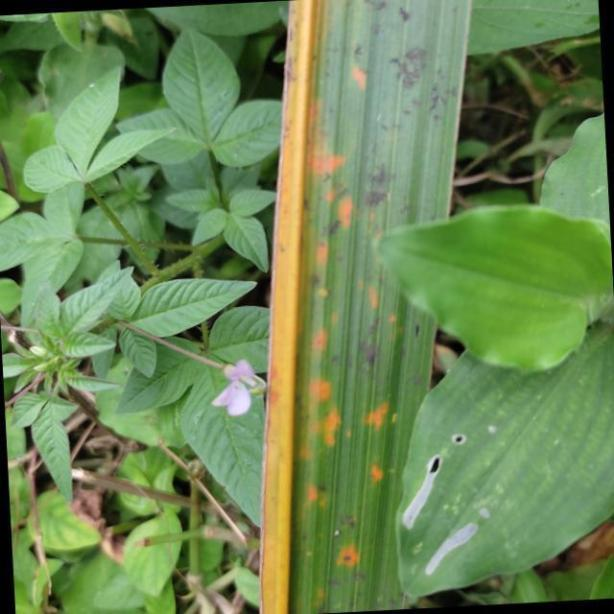Megnesium: (264, 0, 472, 614)
